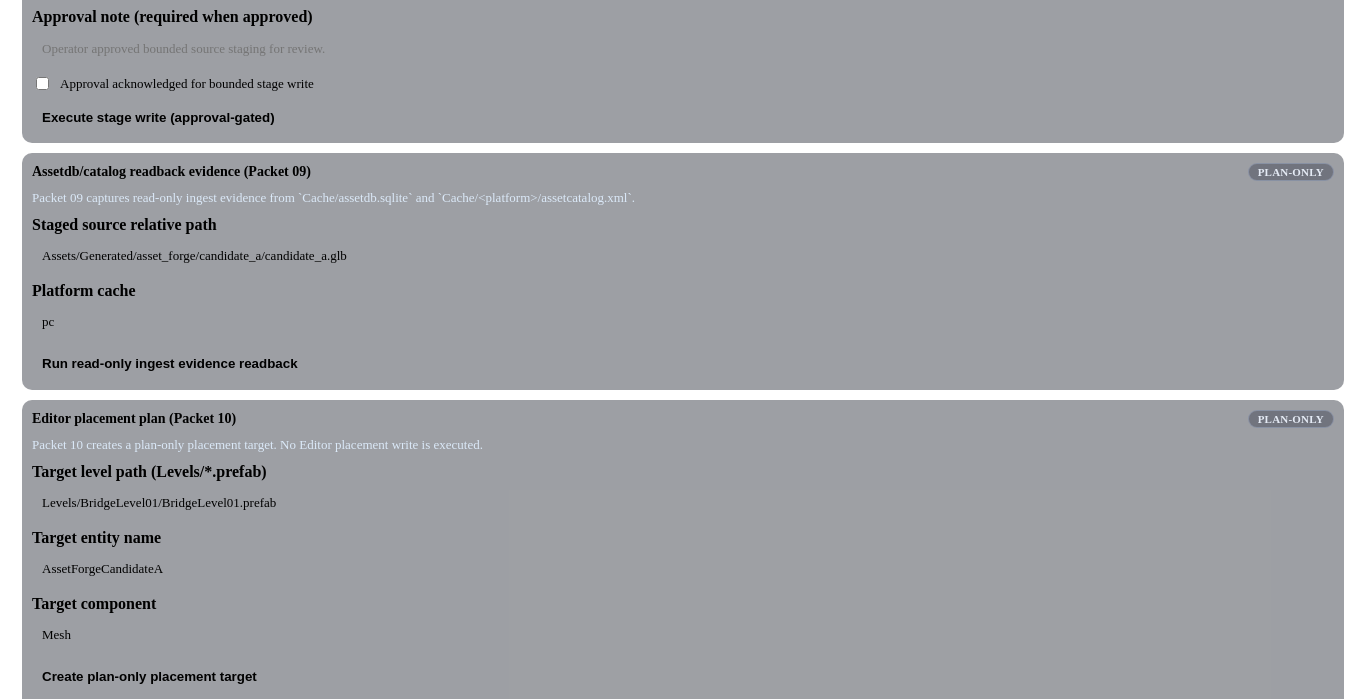
AssetForgeStudioPacket01 › runs Packet 09 readback and renders assetdb/catalog evidence details
(page scrolled)
What coordinates should you click on to do the following:
click the button "Run read-only ingest evidence readback"
I would click on:
 (170, 364)
Its box is [32, 348, 308, 380].
(page scrolled)
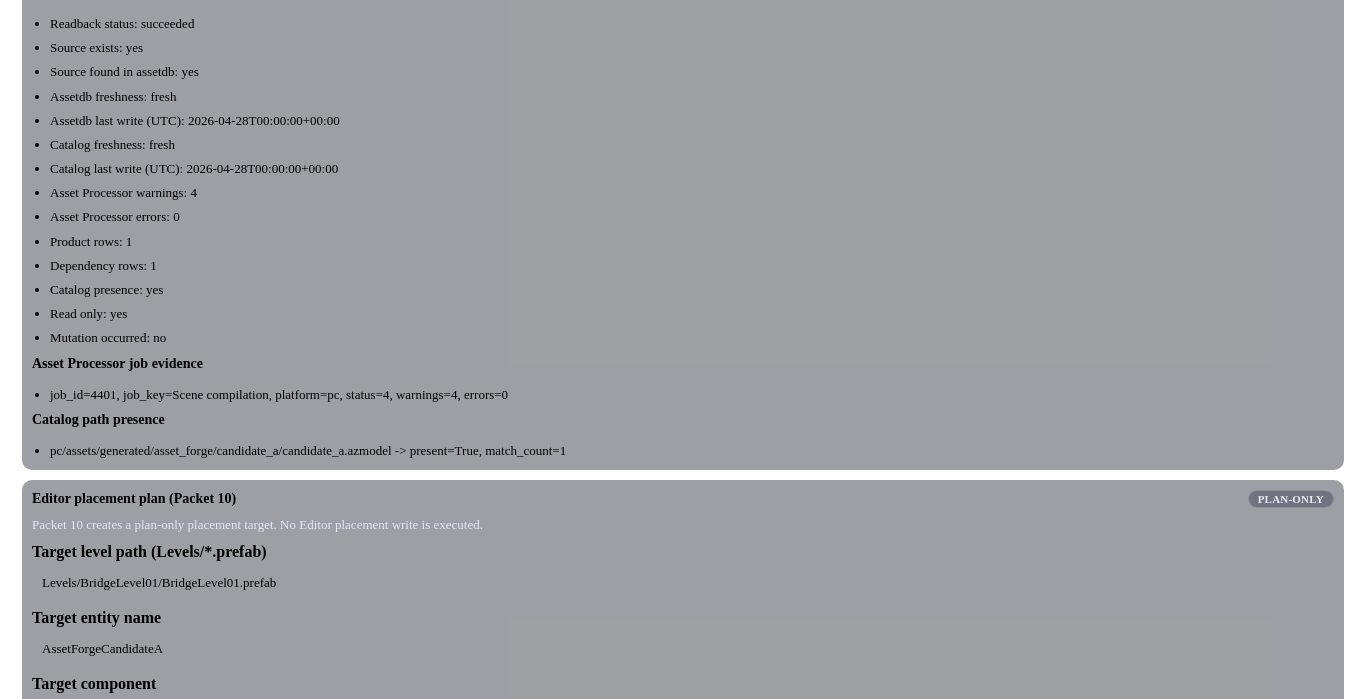
Expected: the list item "Readback status: succeeded" is shown, [50, 16, 194, 31]
Expected: the list item "Source found in assetdb: yes" is shown, [50, 64, 199, 79]
Expected: the list item "Assetdb freshness: fresh" is shown, [50, 88, 176, 104]
